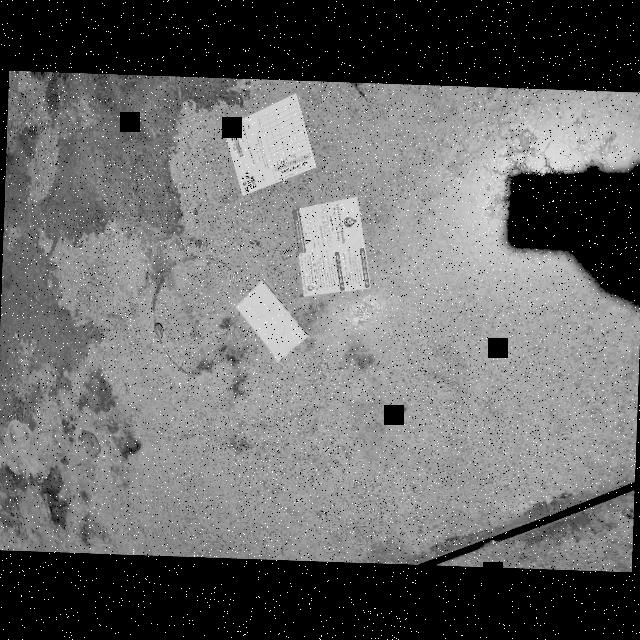scrap_paper: (218, 83, 320, 203), (285, 192, 384, 302), (224, 280, 318, 367)
